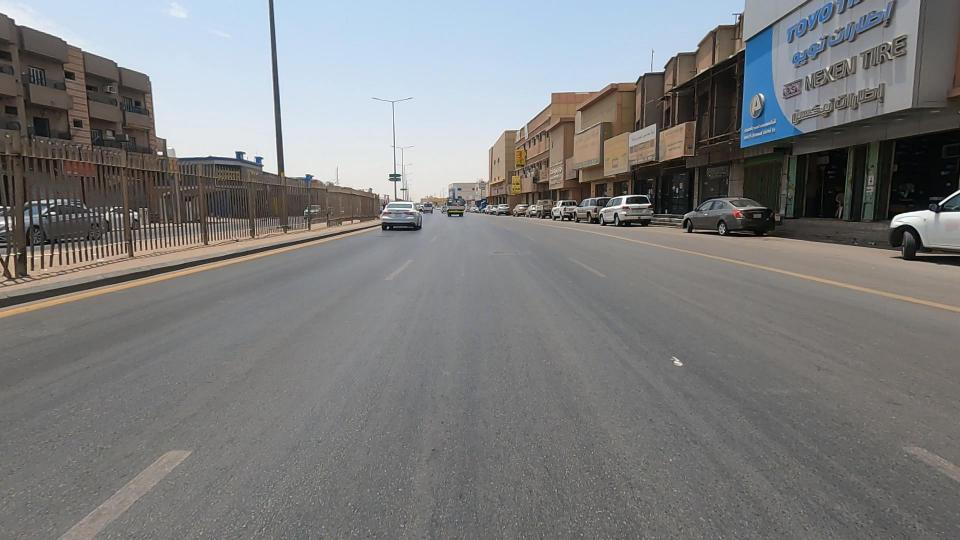BAD_BILLBOARD: (573, 114, 666, 205), (541, 104, 622, 181)
